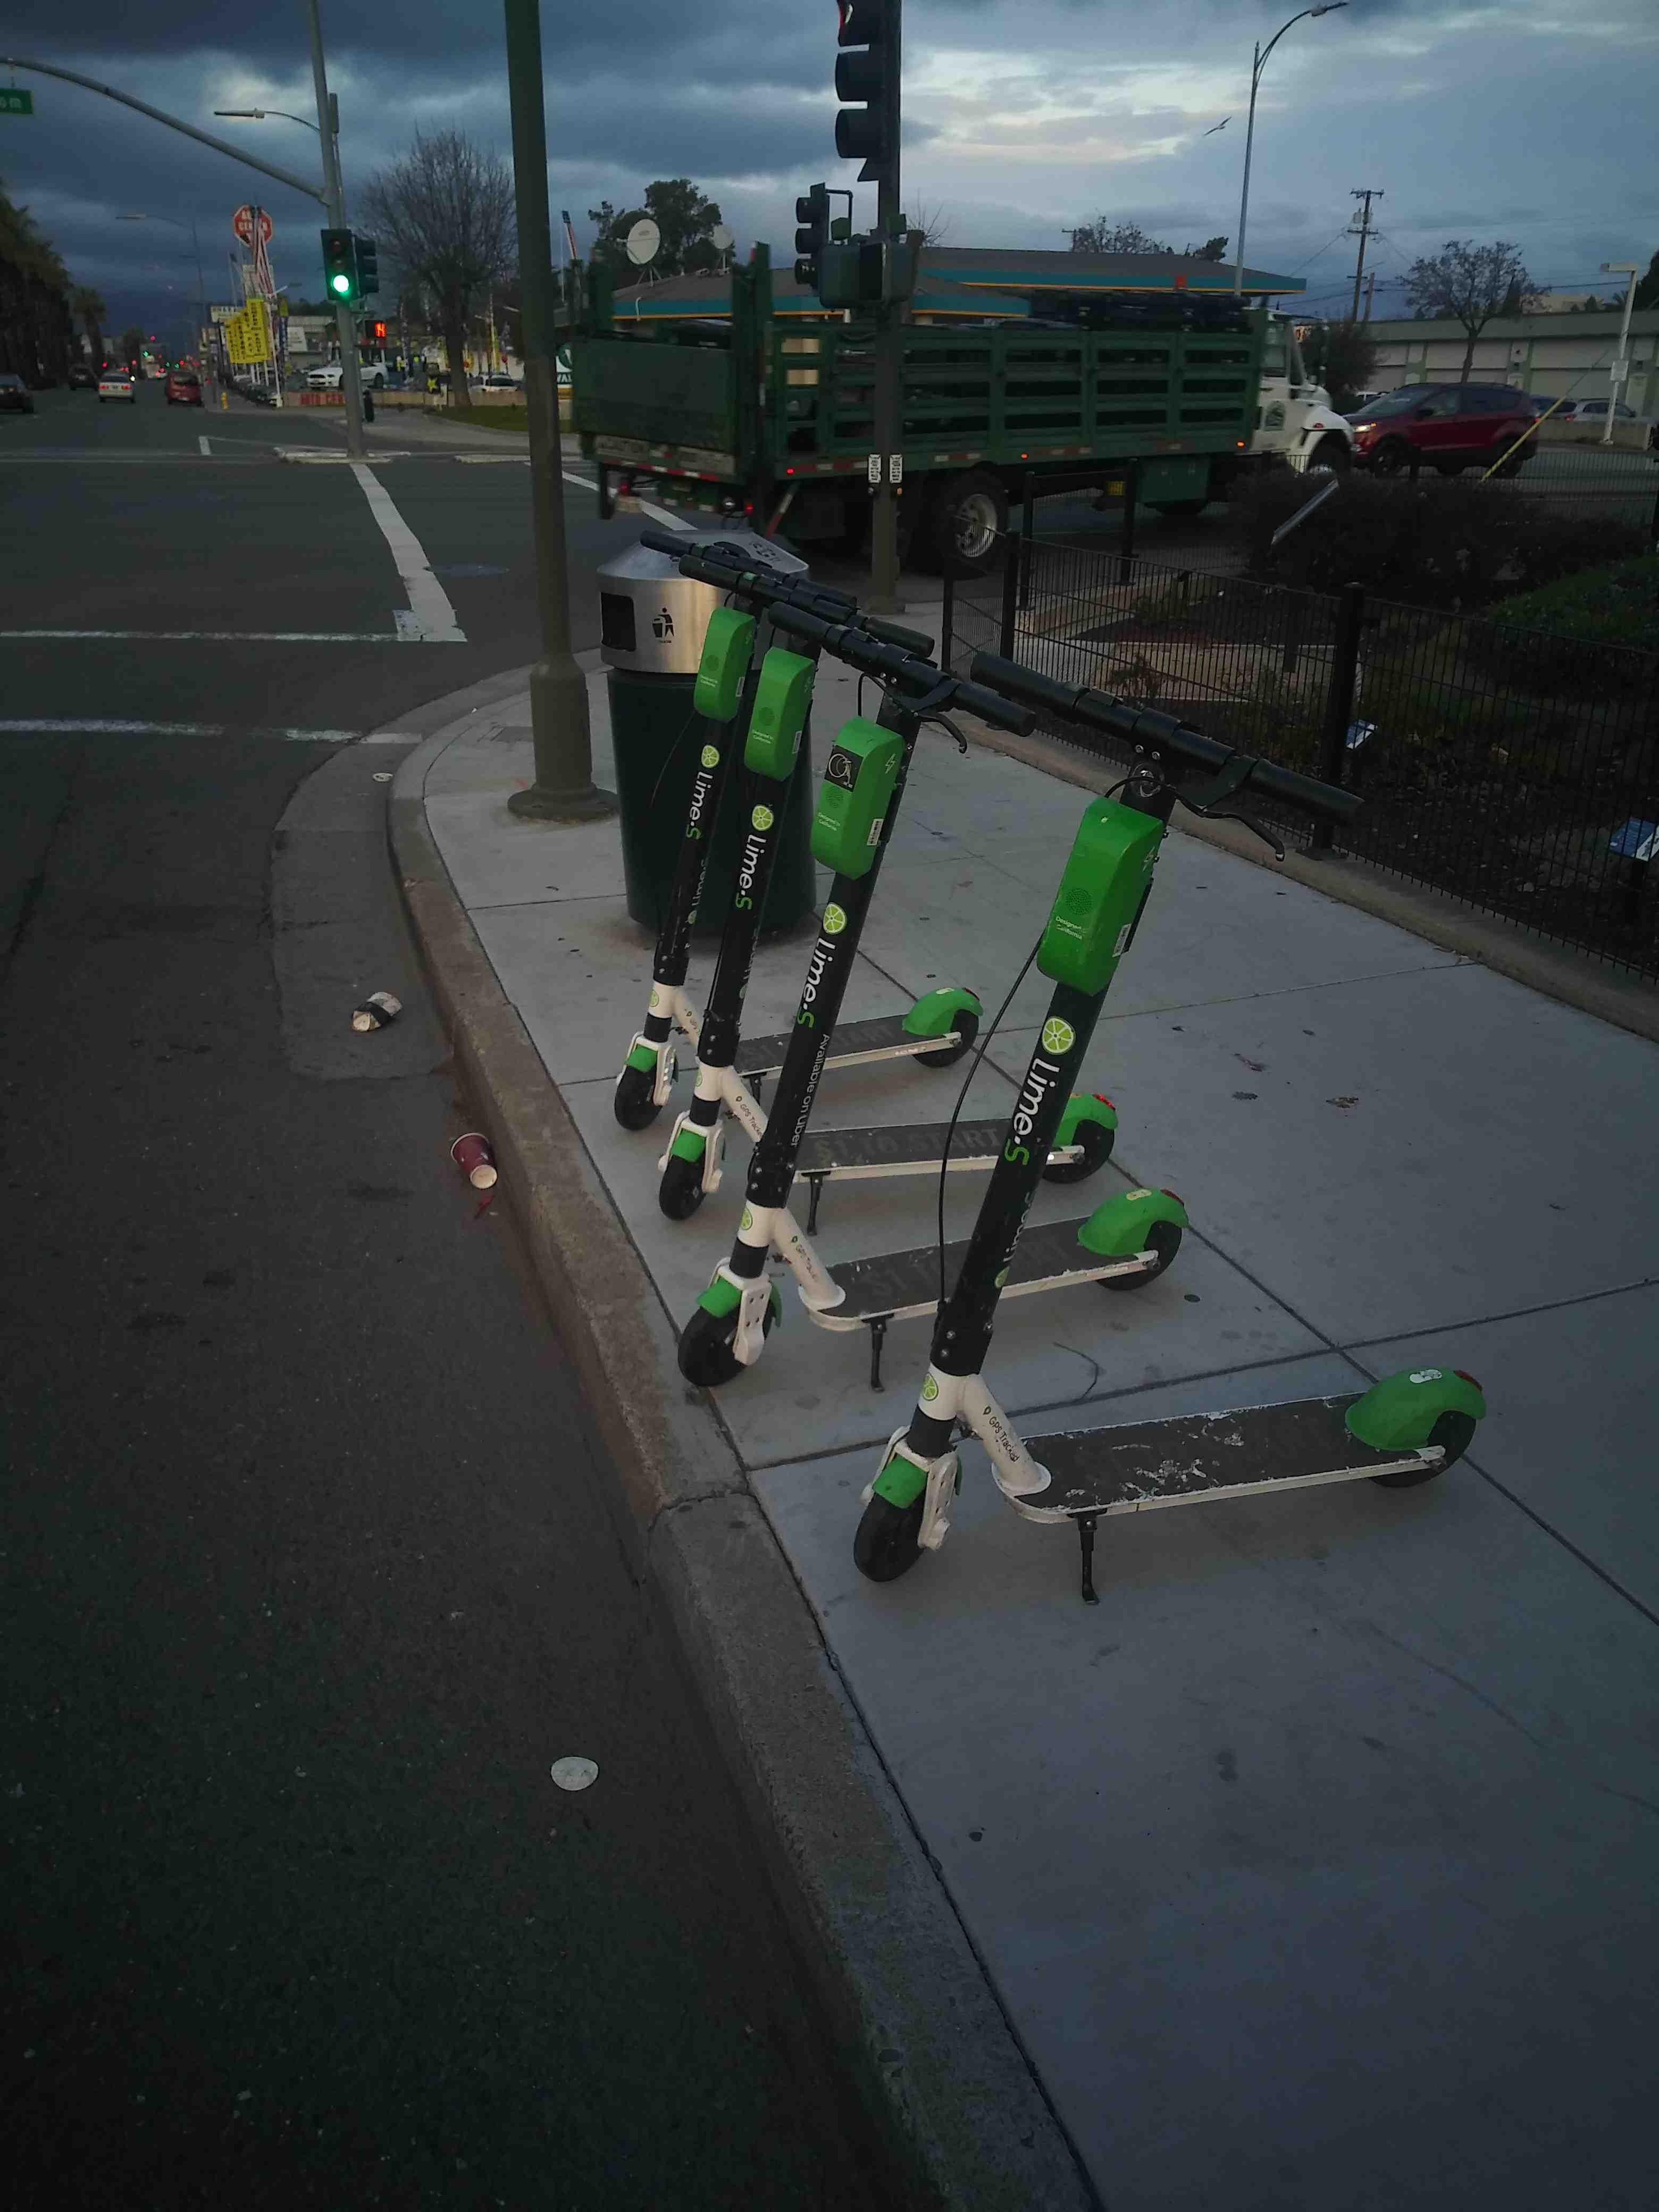too close: (582, 1235, 856, 1474)
